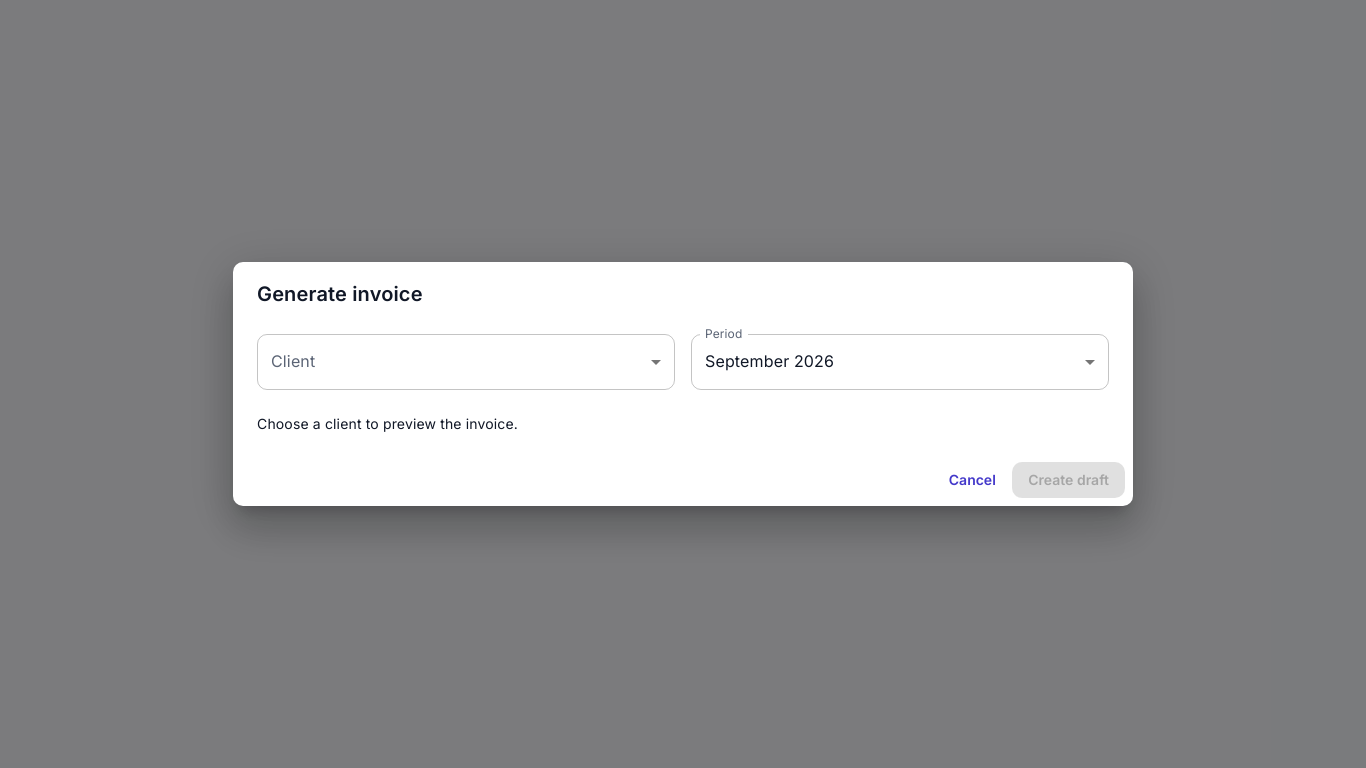
Test: GenerateInvoiceDialog › does not offer a draft when there is nothing to bill
Click the dropdown named "Client" at {"x": 466, "y": 362}, box [257,334,675,390]
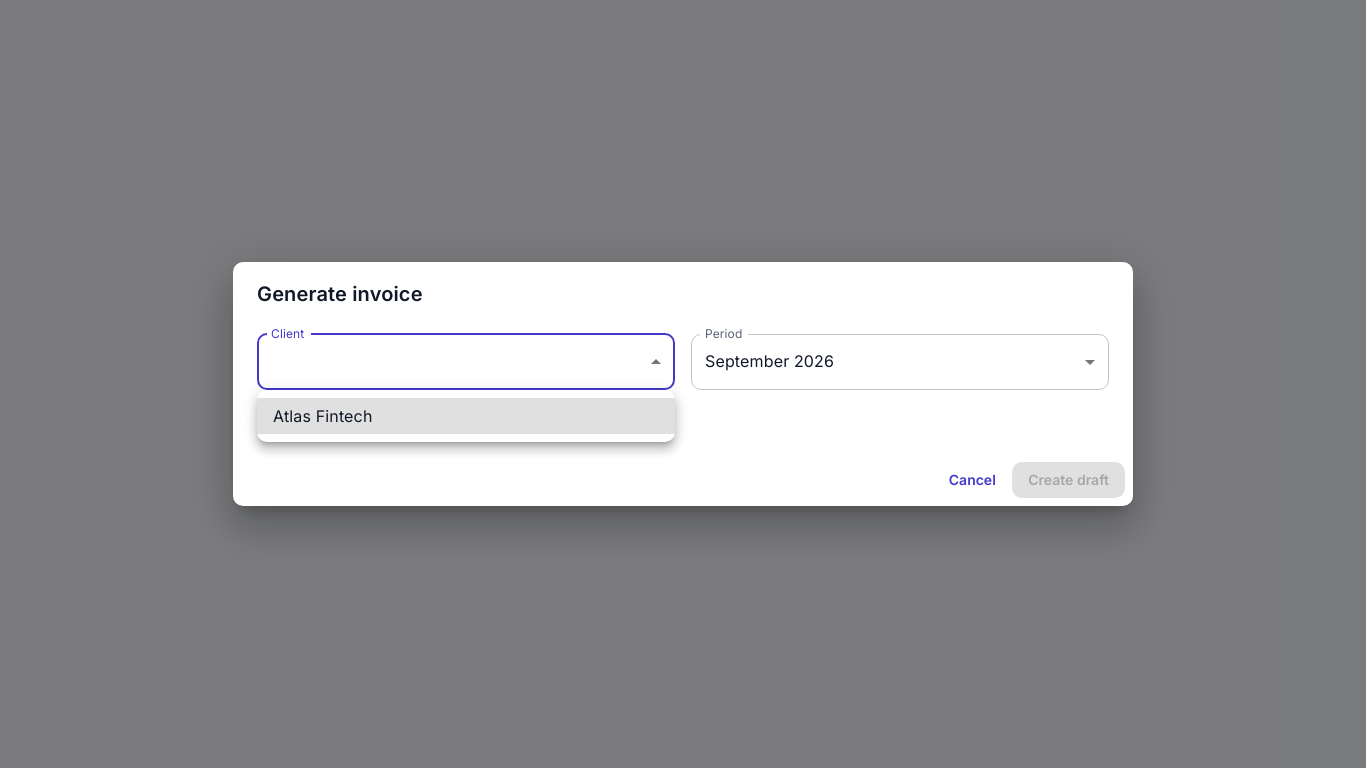
Click the option "Atlas Fintech" at {"x": 323, "y": 416}, box [257,398,675,434]
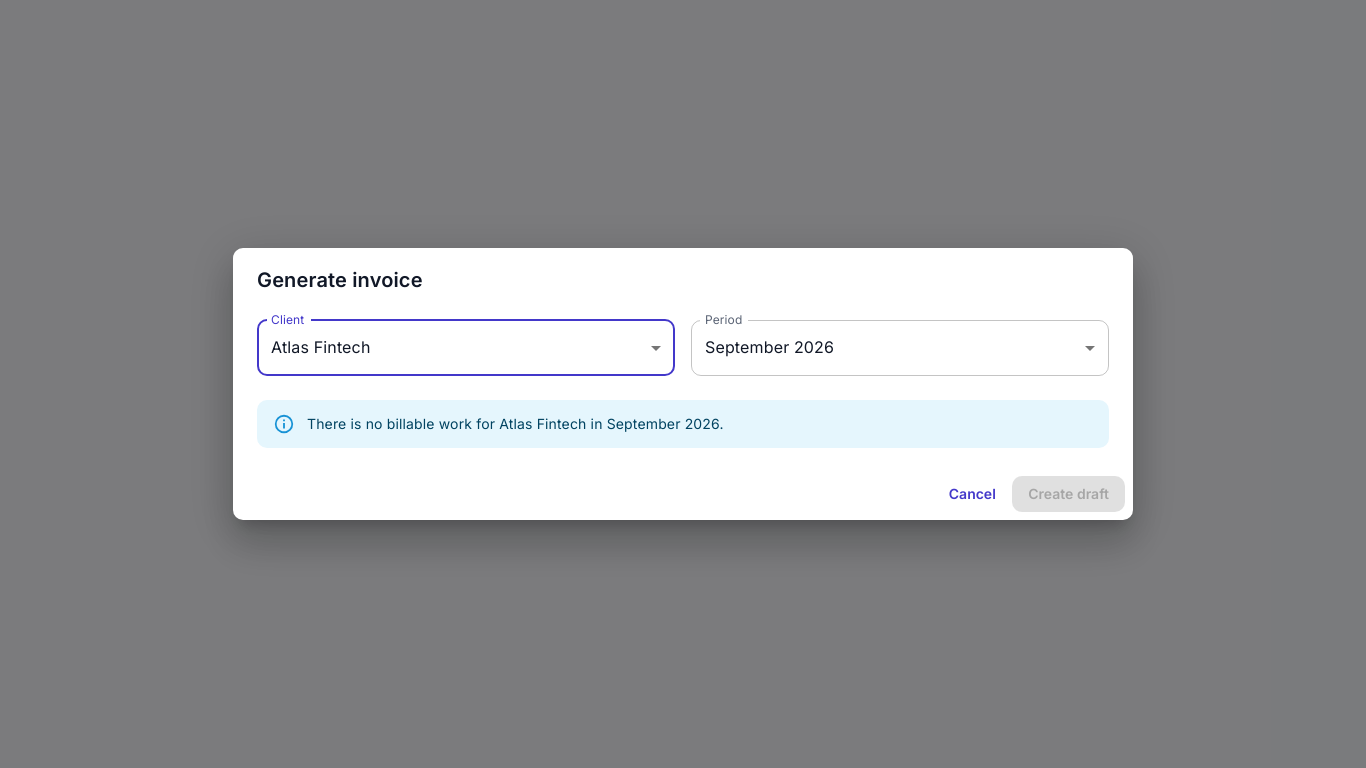
Expected: the button "Create draft" is disabled, [1012,476,1125,512]
Expected: the text "no billable work for Atlas Fintech" is shown, [307,415,724,432]
